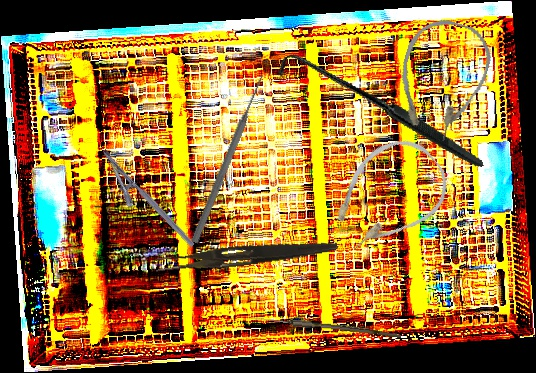Cannula: (313, 124, 462, 268), (384, 11, 499, 148)
Dressing Forceps: (154, 232, 339, 279)
Hook Surgical: (274, 6, 484, 221)
Needle Holder: (88, 148, 196, 260)
Pusher: (189, 72, 268, 245)
Surgical Spoon: (250, 315, 402, 338)
